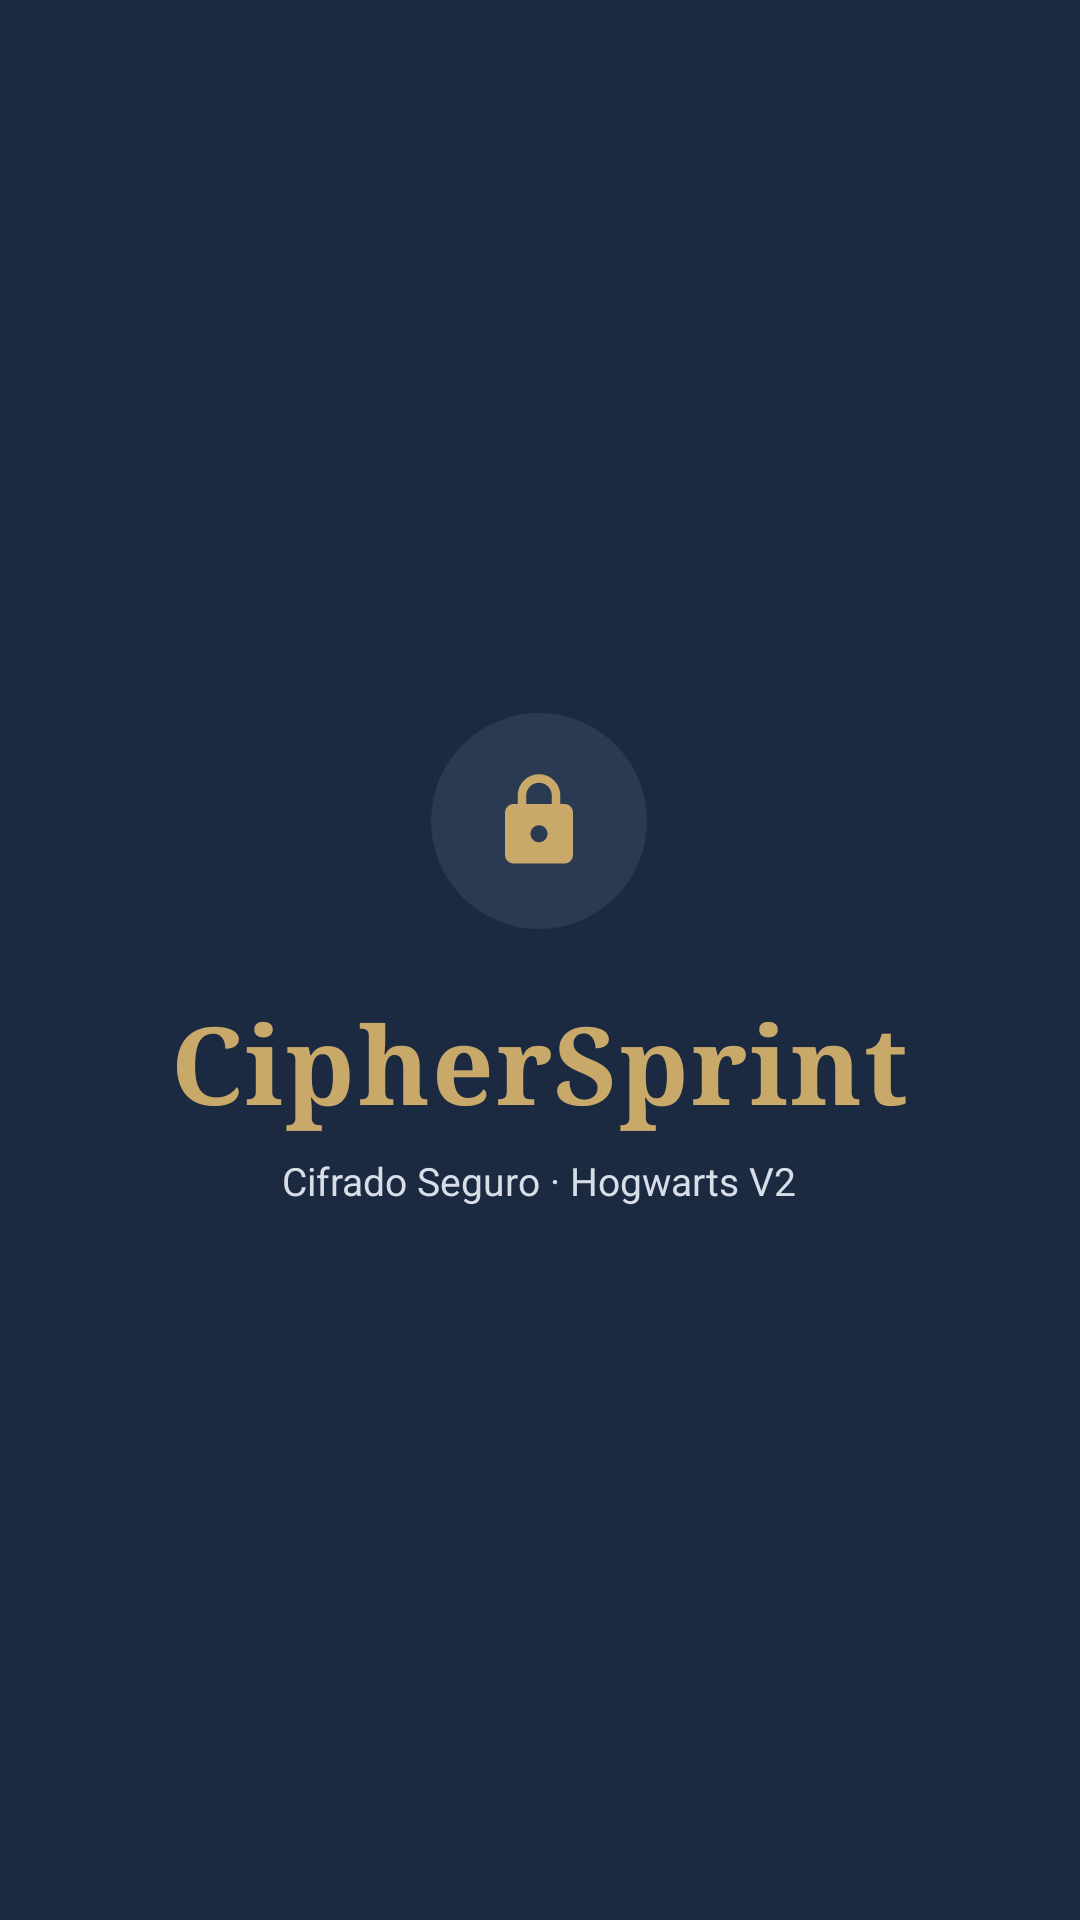

Where to tap for icons on this 1080×1920 app screen, as (x=x, y=y):
Conexión protegida: (x=539, y=819)
